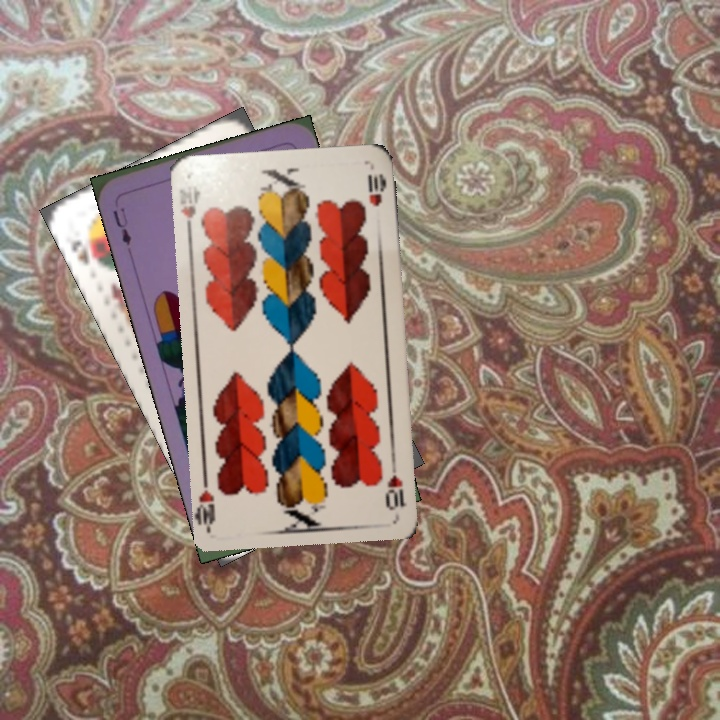EU: (108, 203, 134, 249)
H10: (176, 179, 203, 238), (382, 456, 408, 513)
SK: (67, 235, 106, 271)
